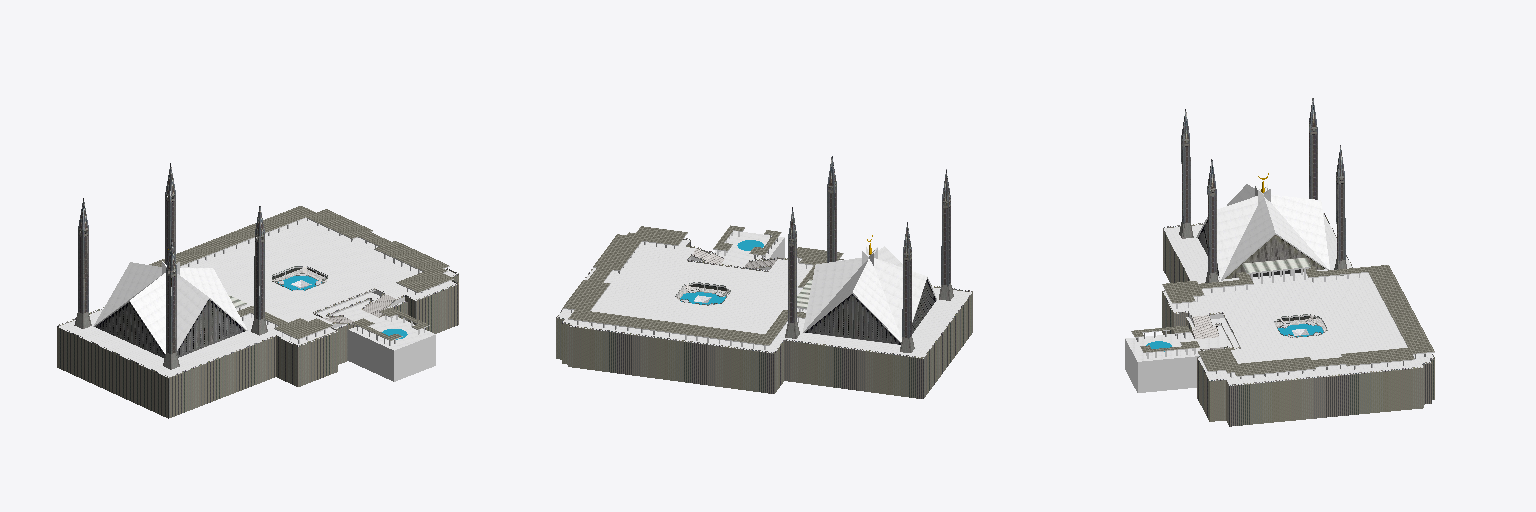
3 views of the same model, side by side, from view 1: azimuth 30°, elevation 25°; view 2: azimuth 150°, elevation 25°; view 3: azimuth 270°, elevation 25° (orthographic).
Parts seen in each view (by area): view 1: Mesh132 Component_1_1 Model, Mesh116 Component_6_1 Model, Mesh51 Component_11_1 Model, Mesh27 Component_17_4 Model, Mesh24 Component_17_1 Model, Mesh25 Component_17_2 Model, Mesh50 Component_11_1 Model, Mesh26 Component_17_3 Model; view 2: Mesh132 Component_1_1 Model, Mesh116 Component_6_1 Model, Mesh51 Component_11_1 Model, Mesh24 Component_17_1 Model, Mesh27 Component_17_4 Model, Mesh26 Component_17_3 Model, Mesh25 Component_17_2 Model, Mesh50 Component_11_1 Model, Mesh142 Model; view 3: Mesh132 Component_1_1 Model, Mesh116 Component_6_1 Model, Mesh51 Component_11_1 Model, Mesh24 Component_17_1 Model, Mesh50 Component_11_1 Model, Mesh25 Component_17_2 Model, Mesh26 Component_17_3 Model, Mesh27 Component_17_4 Model.
Boxes of the visible parts, box(x1,y1,x2,y2) form: Mesh132 Component_1_1 Model: box(57, 218, 458, 418); Mesh116 Component_6_1 Model: box(93, 262, 247, 357); Mesh51 Component_11_1 Model: box(149, 206, 453, 292); Mesh27 Component_17_4 Model: box(74, 198, 91, 328); Mesh24 Component_17_1 Model: box(163, 239, 179, 369); Mesh25 Component_17_2 Model: box(251, 206, 267, 335); Mesh50 Component_11_1 Model: box(237, 306, 332, 339); Mesh26 Component_17_3 Model: box(165, 163, 175, 264); Mesh132 Component_1_1 Model: box(556, 231, 972, 398); Mesh116 Component_6_1 Model: box(803, 246, 936, 344); Mesh51 Component_11_1 Model: box(563, 226, 805, 345); Mesh24 Component_17_1 Model: box(939, 169, 953, 300); Mesh27 Component_17_4 Model: box(900, 222, 914, 352); Mesh26 Component_17_3 Model: box(785, 207, 799, 338); Mesh25 Component_17_2 Model: box(827, 156, 836, 262); Mesh50 Component_11_1 Model: box(797, 247, 843, 287); Mesh142 Model: box(556, 238, 972, 358); Mesh132 Component_1_1 Model: box(1125, 213, 1434, 426); Mesh116 Component_6_1 Model: box(1196, 184, 1329, 280); Mesh51 Component_11_1 Model: box(1198, 265, 1434, 376); Mesh24 Component_17_1 Model: box(1179, 109, 1193, 238); Mesh50 Component_11_1 Model: box(1162, 272, 1253, 303); Mesh25 Component_17_2 Model: box(1205, 159, 1218, 282); Mesh26 Component_17_3 Model: box(1334, 145, 1346, 275); Mesh27 Component_17_4 Model: box(1309, 98, 1317, 199).
Size of the model in its own units: 11490 by 5212 by 8689.
Materials: 21 (16 with a texture image).